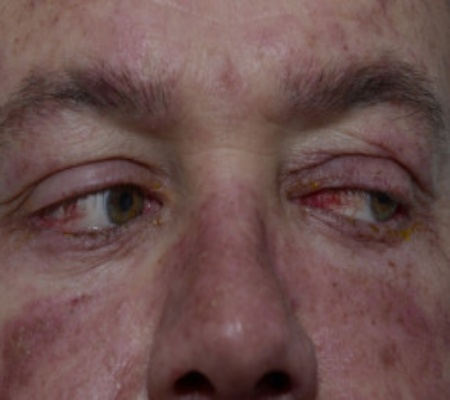SJS-TEN: (0, 296, 72, 400), (24, 190, 95, 244), (374, 202, 439, 257), (283, 182, 353, 228)
